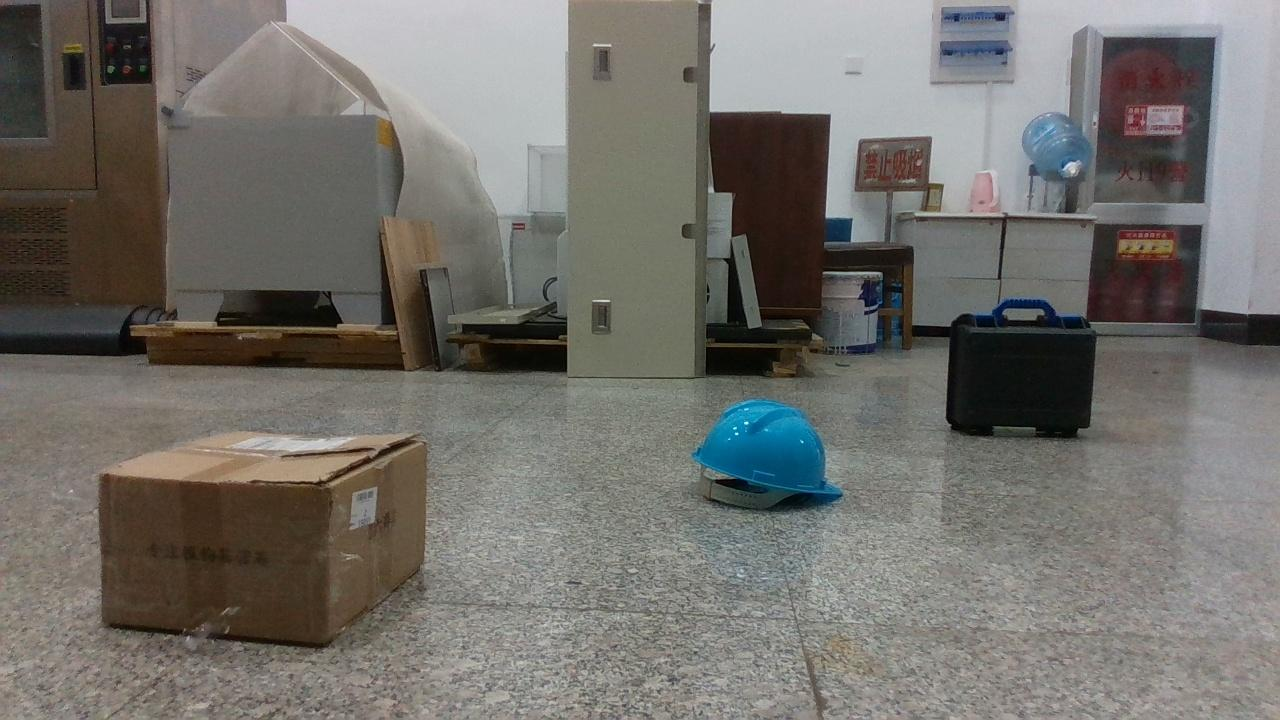box: (100, 432, 428, 644)
safehat: (692, 400, 842, 509)
toolkit: (948, 298, 1098, 436)
